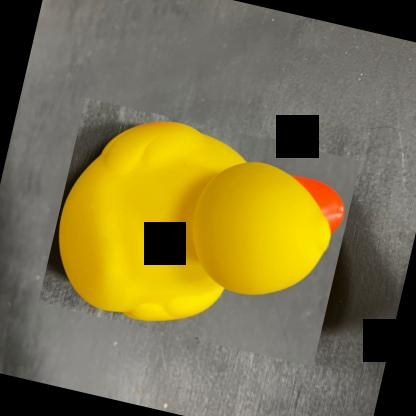duck: (39, 98, 361, 367)
